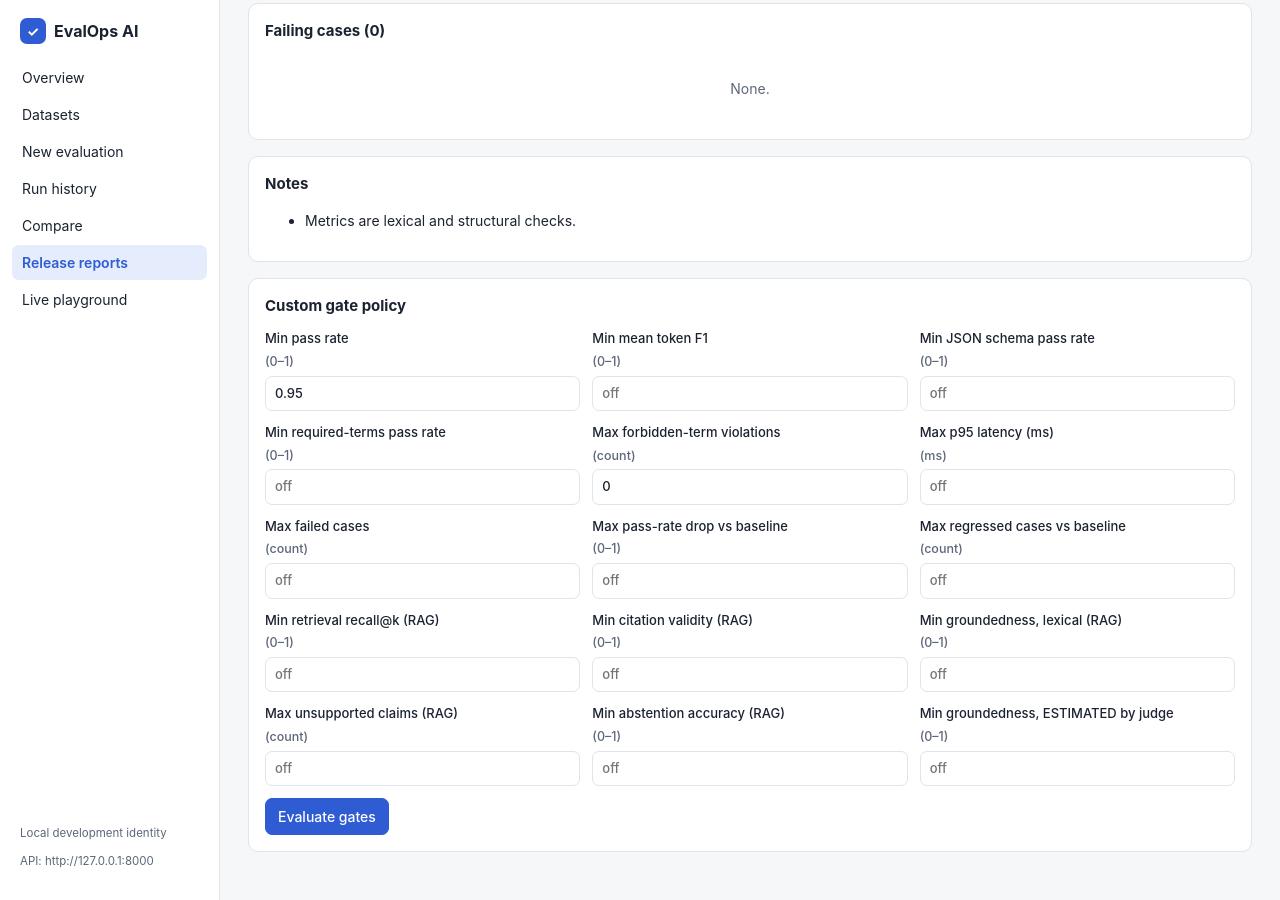
Test: Reports › evaluates a custom gate policy via the API
The width and height of the screenshot is (1280, 900).
(page scrolled)
Click the button "Evaluate gates": (327,816) [265,798,389,835]
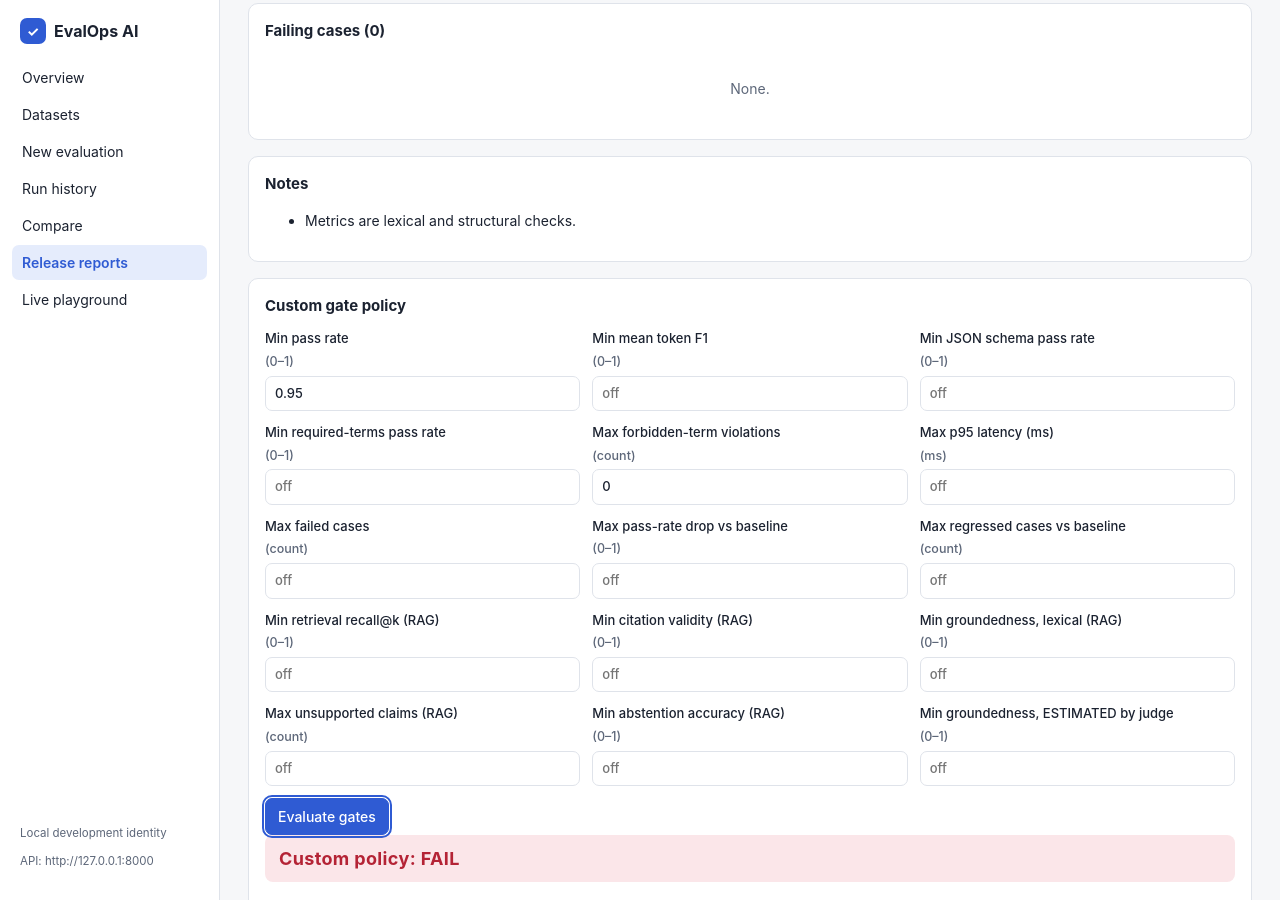
Now the text "Custom policy: FAIL" is shown, box [265,835,1235,882]
